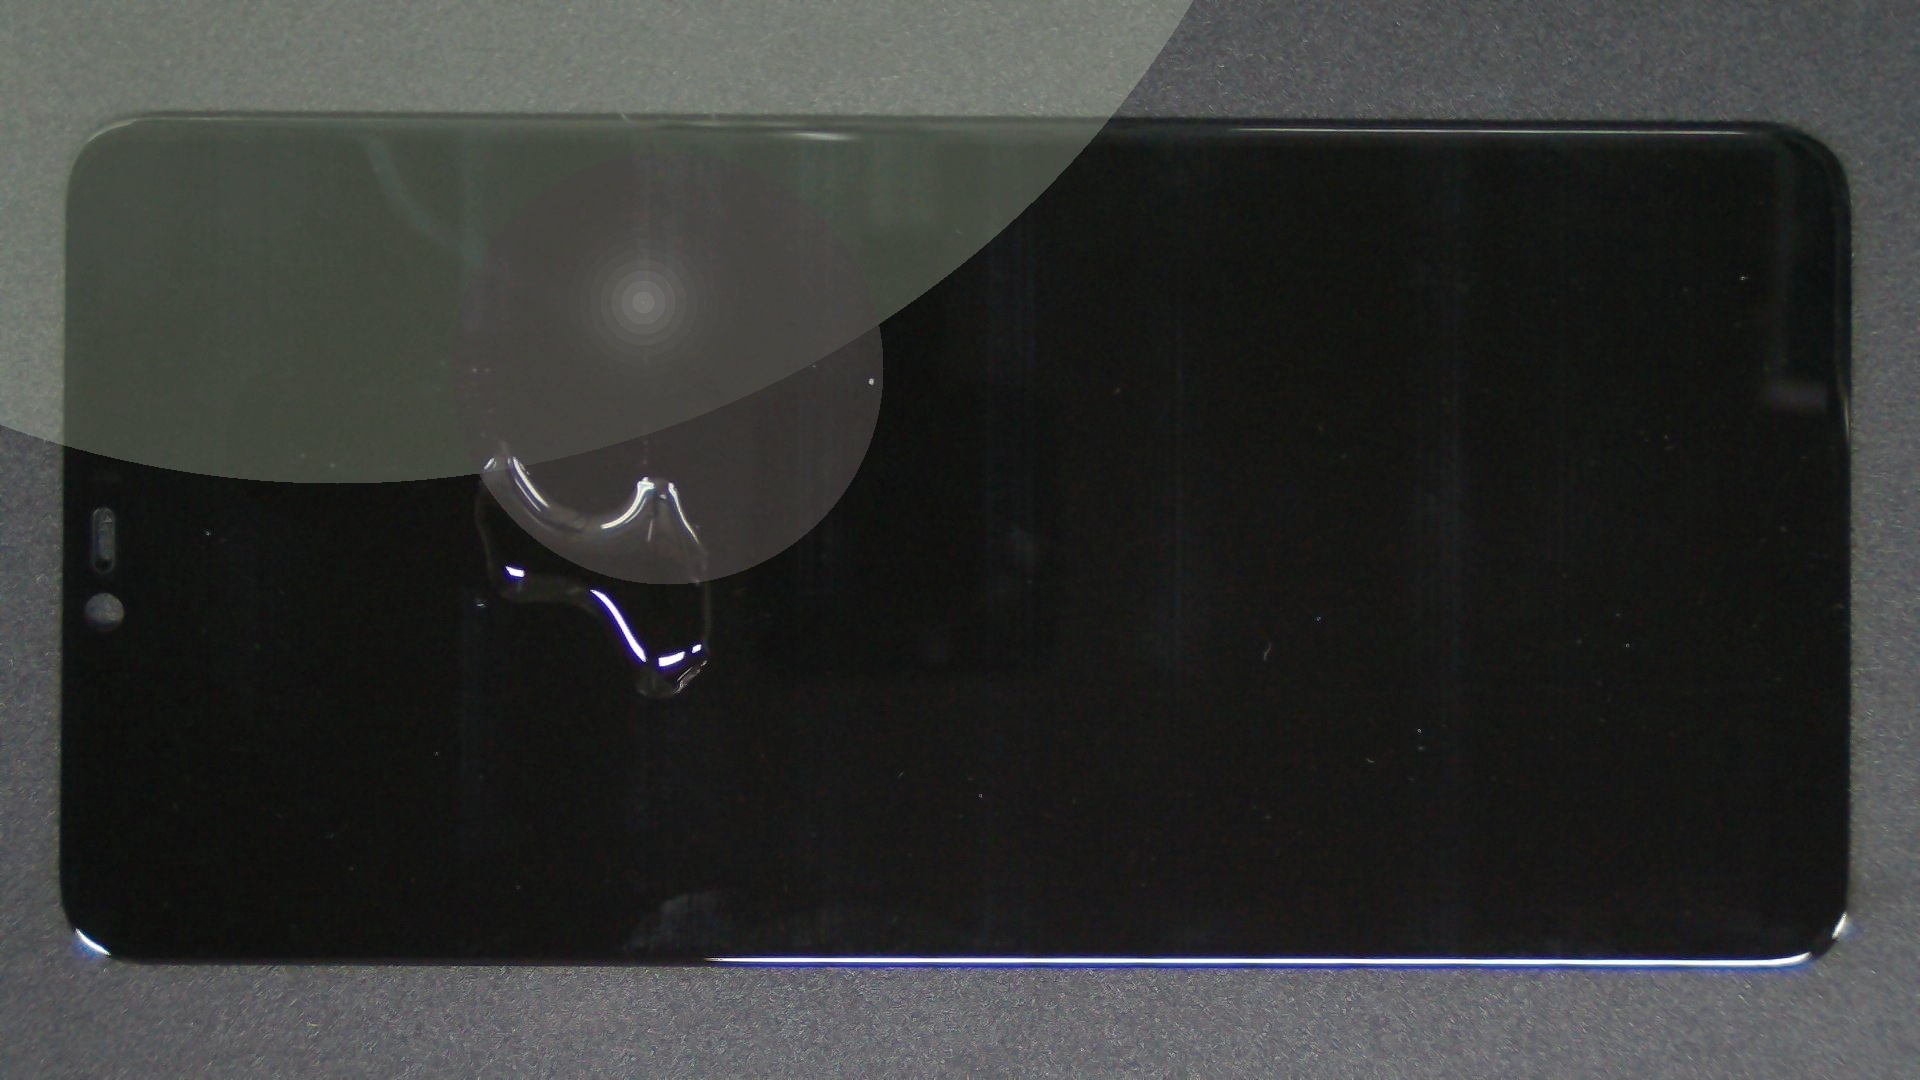oil: (434, 187, 1302, 568), (237, 297, 712, 899), (252, 219, 754, 661)
